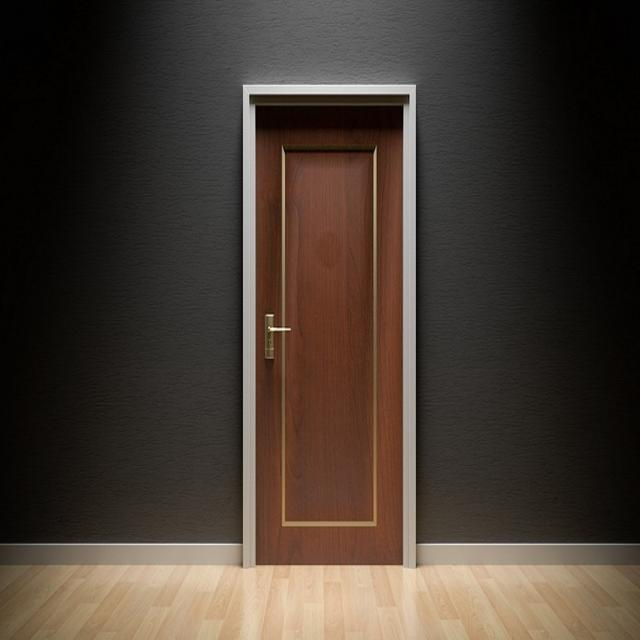close: (255, 102, 408, 565)
